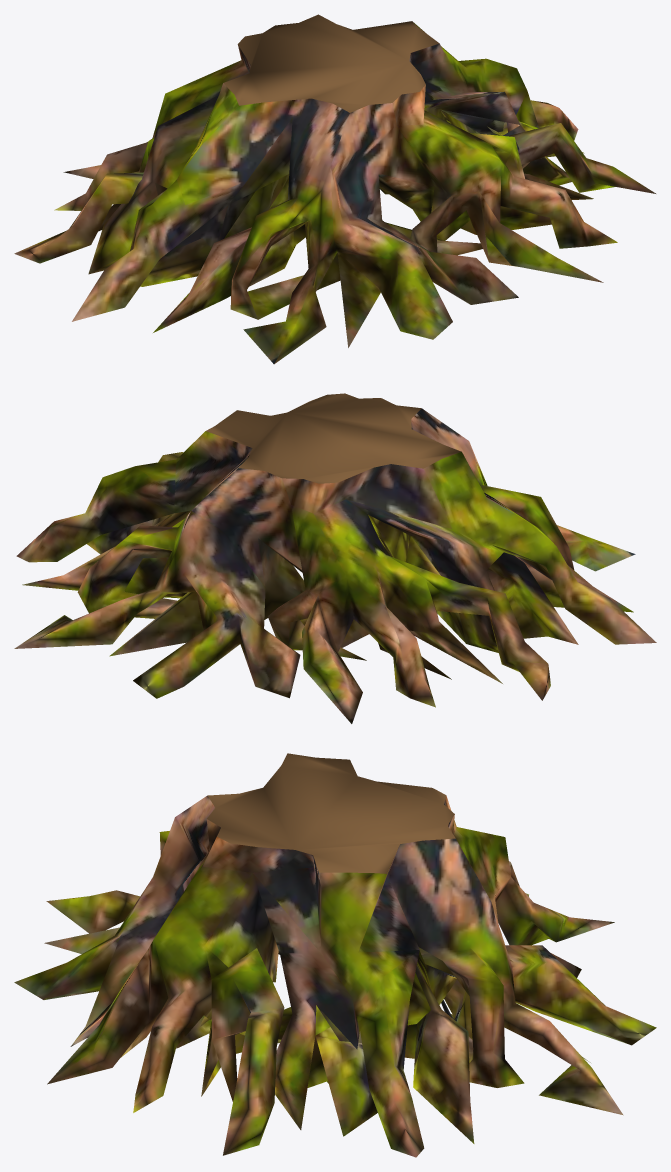
Rendered from kernbaum-stumpf.glb.
The picture shows the model from 3 angles, top to bottom: view 1: azimuth 30°, elevation 25°; view 2: azimuth 150°, elevation 25°; view 3: azimuth 270°, elevation 25°; orthographic projection. The views are drawn at different scales.
Parts seen in each view (by area): view 1: baum; view 2: baum; view 3: baum.
Part boxes in pixels (x1=…): baum: x1=14, y1=14, x2=655, y2=364; baum: x1=14, y1=393, x2=656, y2=723; baum: x1=14, y1=753, x2=656, y2=1157.
Size of the model in its own units: 5.35 by 1.5 by 4.51.
Materials: 2 (1 with a texture image).
